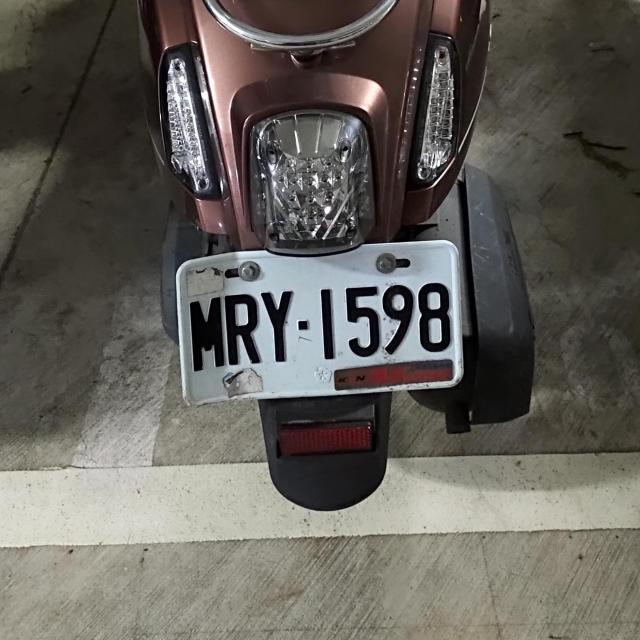W: (169, 238, 464, 402)
